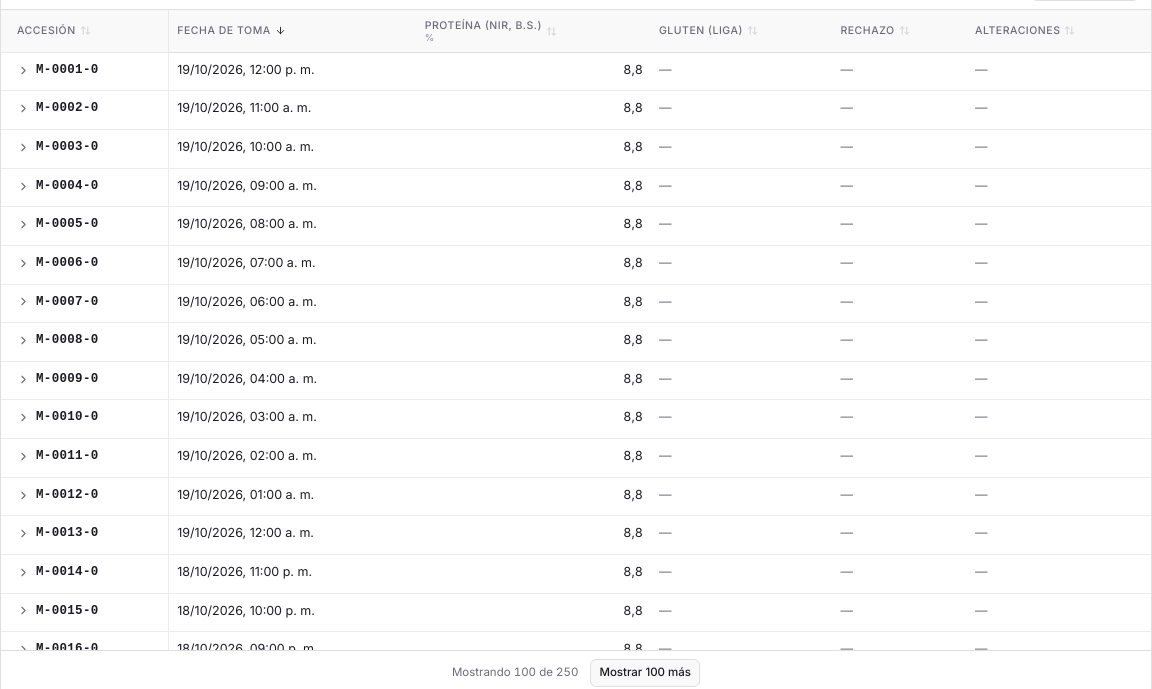
Test case: LabAnalysisPage: filtrar no cuelga la página › dibuja de a 100 filas y 'Mostrar más' suma las siguientes
This screenshot has width=1152, height=689.
(page scrolled)
Expected: the text "Mostrando 100 de 250" is shown, [452,664,578,681]
Click the button "Mostrar 100 más": coordinates (645, 673) [590,659,700,687]
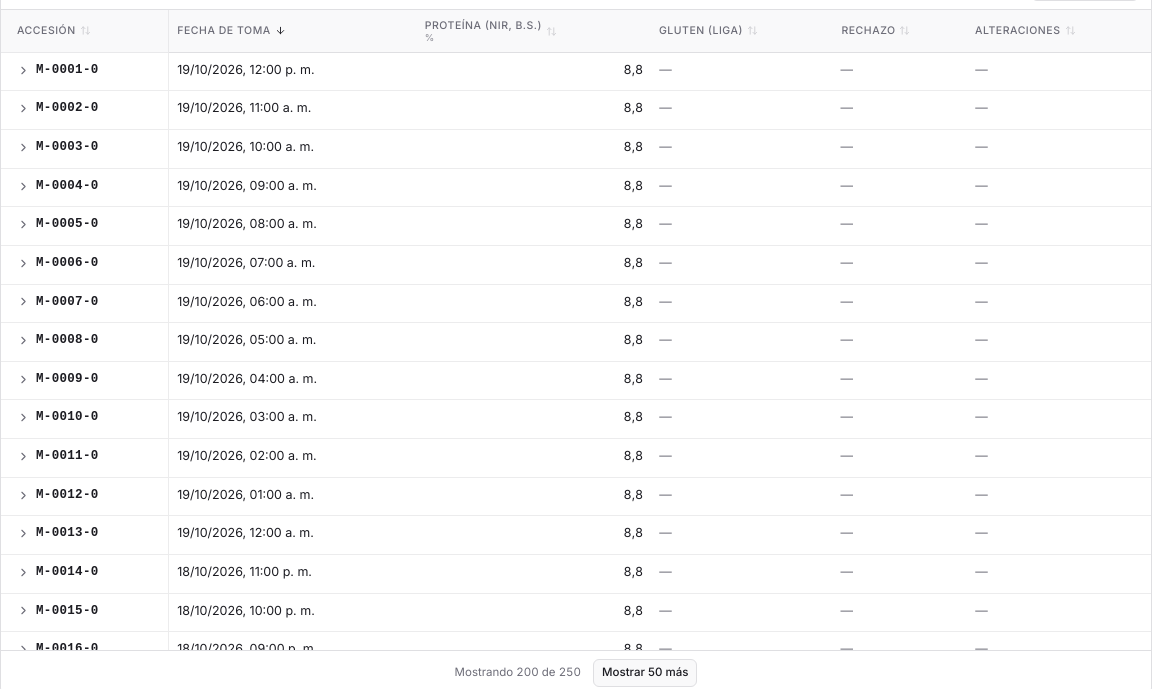
Click the button "Mostrar 50 más": coordinates (645, 673) [593,659,697,687]
(page scrolled)
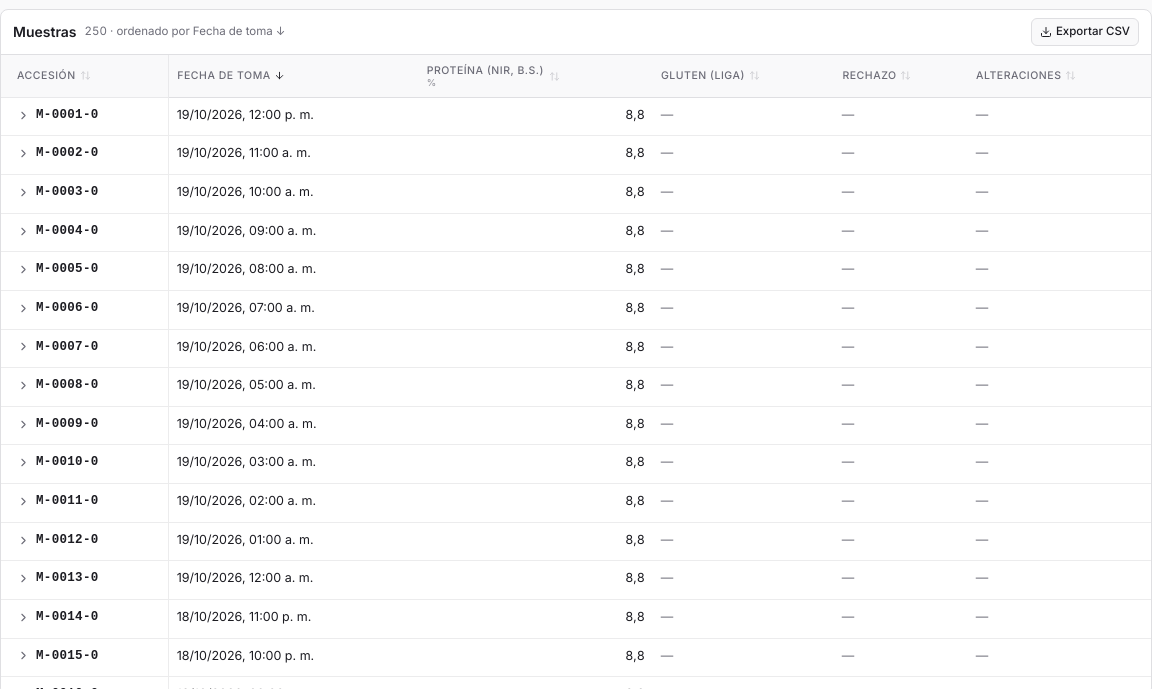
Result: the button "Mostrar 50 más" is gone
